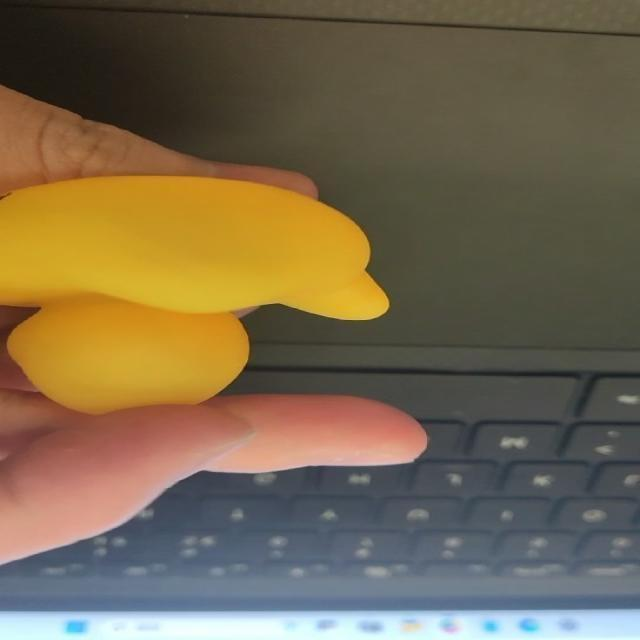rubber-duck: (0, 175, 387, 411)
